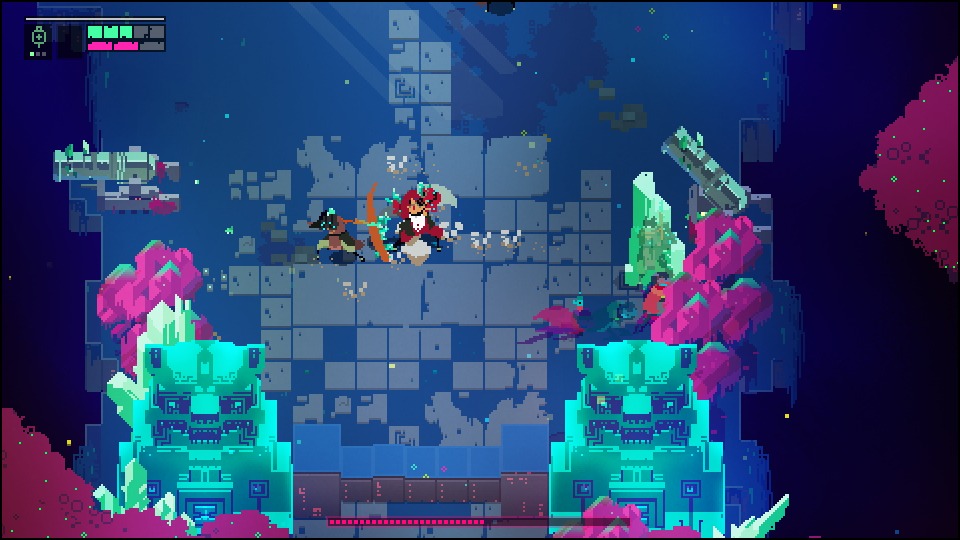hanged_man: (368, 181, 461, 266)
player: (645, 269, 675, 324)
